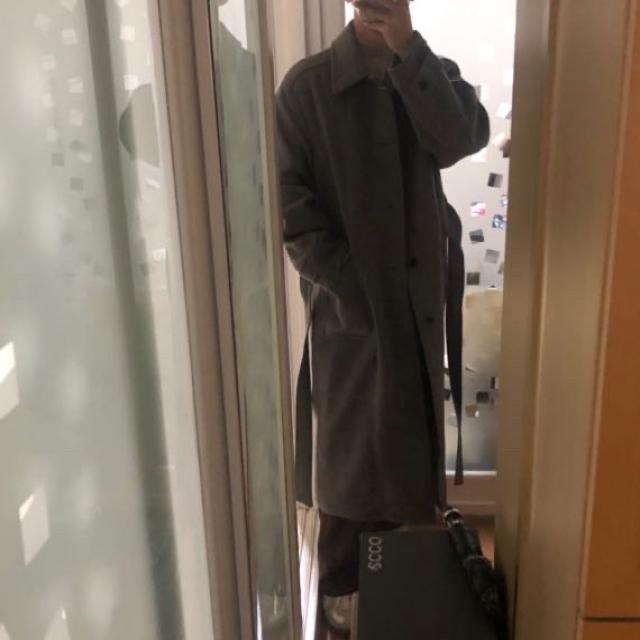coat: (276, 18, 491, 528)
